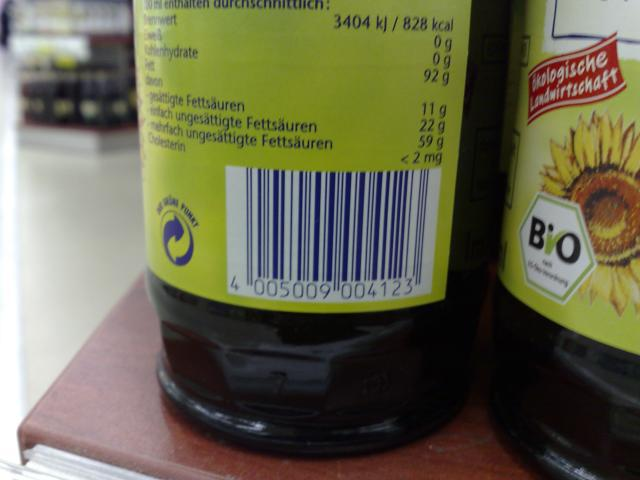Barkod: (240, 166, 428, 274)
